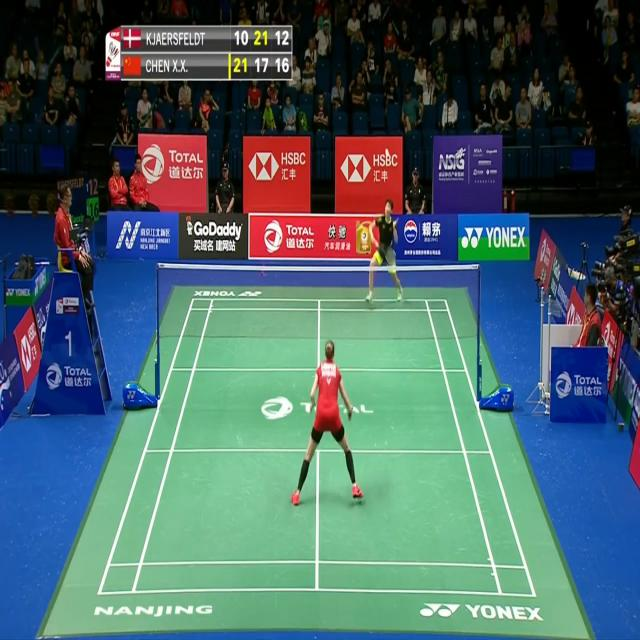Player1: (288, 332, 368, 514)
Player2: (361, 190, 409, 310)
